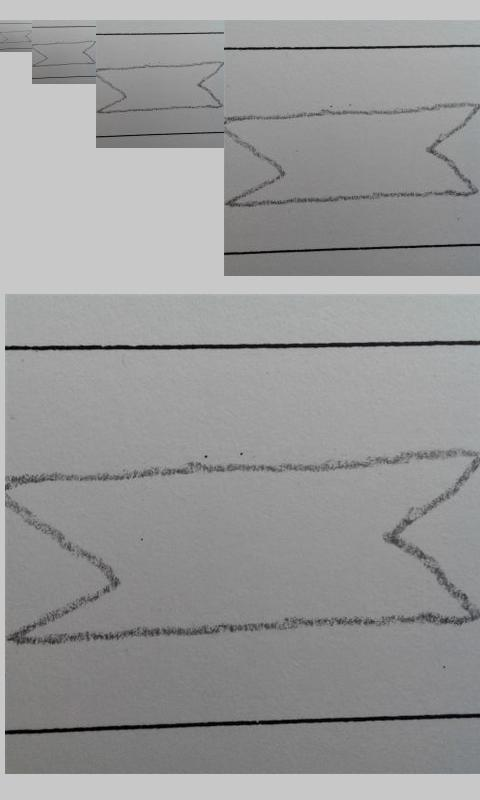edit_text: (7, 446, 480, 646), (227, 100, 480, 208), (98, 60, 223, 115), (33, 40, 95, 68), (1, 30, 32, 44)
